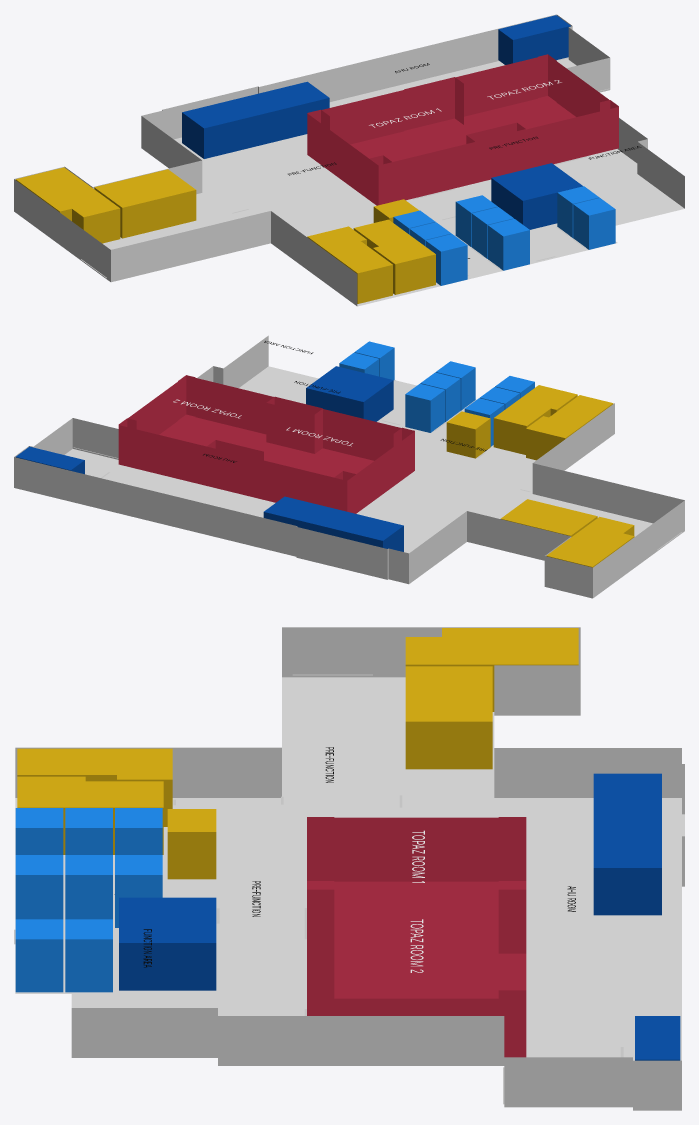
3 views of the same model, one above another, from view 1: azimuth 30°, elevation 25°; view 2: azimuth 150°, elevation 25°; view 3: azimuth 270°, elevation 25° (orthographic). The views are drawn at different scales.
Visible parts, largest first — view 1: 2 main floor, 2 main room, 2 Toilet, 2 STAIRS, 2 LIFT; view 2: 2 main floor, 2 main room, 2 Toilet, 2 STAIRS, 2 LIFT; view 3: 2 main floor, 2 main room, 2 Toilet, 2 LIFT, 2 STAIRS, 2 text.
Boxes of the visible parts, x1,y1,x2,y2 form: 2 main floor: (14, 14, 684, 306); 2 main room: (307, 54, 618, 205); 2 Toilet: (15, 167, 435, 303); 2 STAIRS: (182, 15, 582, 229); 2 LIFT: (393, 186, 615, 285); 2 main floor: (14, 335, 684, 598); 2 main room: (118, 375, 414, 513); 2 Toilet: (446, 385, 634, 567); 2 STAIRS: (16, 366, 403, 551); 2 LIFT: (339, 341, 534, 446); 2 main floor: (15, 627, 684, 1110); 2 main room: (307, 817, 526, 1057); 2 Toilet: (17, 628, 578, 879); 2 LIFT: (15, 808, 162, 992); 2 STAIRS: (119, 773, 680, 1060); 2 text: (143, 747, 575, 967).
Size of the model in its own units: 16.94 by 1.38 by 11.07.
